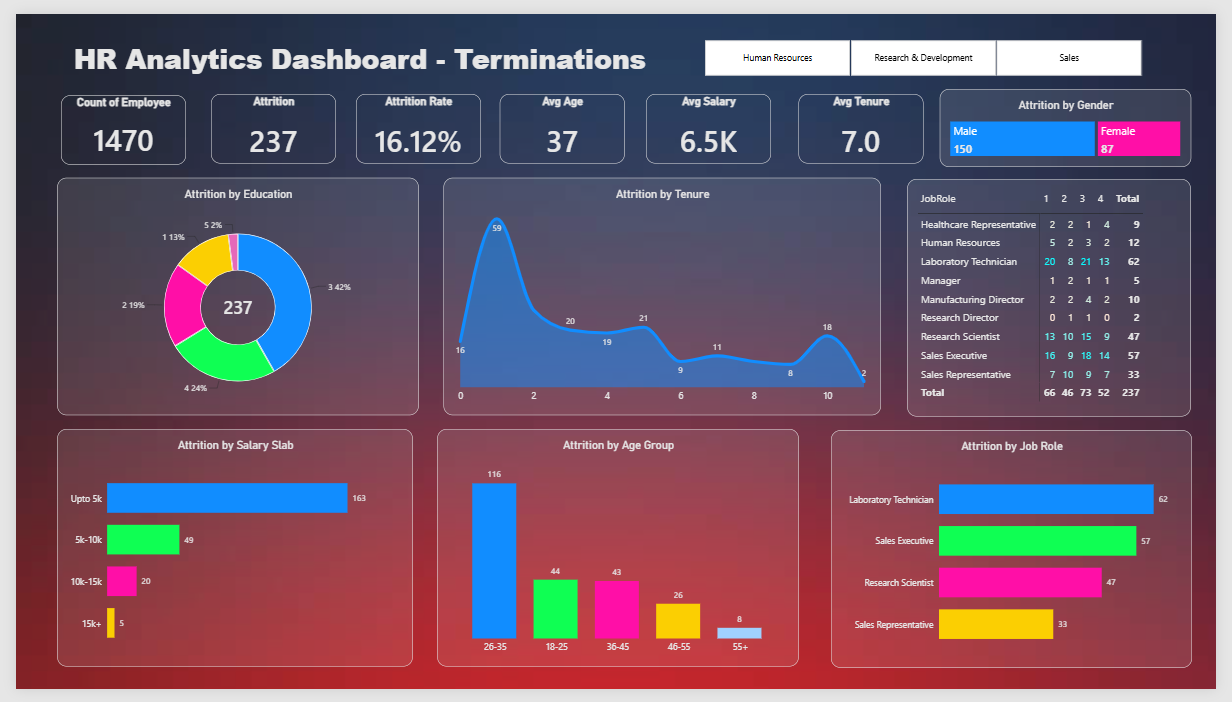

The dashboard page shown, as its layout file describes it:
{"tool":"powerbi","page":{"name":"Page 1","canvas":[1920,1080],"ordinal":0},"visuals":[{"type":"cardVisual","title":"Count of Employee","fields":{"Data":["Count(HR_Analytics.EmpID)"]},"box":[72.6,129.8,200,111],"z":0},{"type":"cardVisual","title":"Attrition","fields":{"Data":["Sum(HR_Analytics.AttritionCount)"]},"box":[311.1,128.9,200,111],"z":1000},{"type":"cardVisual","title":"Attrition Rate","fields":{"Data":["HR_Analytics.AttritionRate"]},"box":[544.4,128.9,200,111],"z":2000},{"type":"cardVisual","title":"Avg Age","fields":{"Data":["Avg(HR_Analytics.Age)"]},"box":[773.3,128.9,200,111],"z":3000},{"type":"cardVisual","title":"Avg Salary","fields":{"Data":["Avg(HR_Analytics.MonthlyIncome)"]},"box":[1008.9,128.9,200,111],"z":4000},{"type":"cardVisual","title":"Avg Tenure","fields":{"Data":["Avg(HR_Analytics.YearsAtCompany)"]},"box":[1251.1,128.9,200,111],"z":5000},{"type":"donutChart","title":"Attrition by Education","fields":{"Category":["HR_Analytics.Education"],"Y":["Sum(HR_Analytics.AttritionCount)"]},"box":[66,261.9,578.3,380],"z":6000},{"type":"columnChart","title":"Attrition by Age Group","fields":{"Category":["HR_Analytics.AgeGroup"],"Y":["Sum(HR_Analytics.AttritionCount)"]},"box":[673.3,664.4,578.3,380],"z":7000},{"type":"pivotTable","fields":{"Columns":["HR_Analytics.JobSatisfaction"],"Rows":["HR_Analytics.JobRole"],"Values":["Sum(HR_Analytics.AttritionCount)"]},"box":[1426.7,264.4,453.3,380],"z":8000},{"type":"barChart","title":"Attrition by Salary Slab","fields":{"Category":["HR_Analytics.SalarySlab"],"Y":["Sum(HR_Analytics.AttritionCount)"]},"box":[66.7,664.4,568.9,380],"z":9000},{"type":"barChart","title":"Attrition by Job Role","fields":{"Category":["HR_Analytics.JobRole"],"Y":["Sum(HR_Analytics.AttritionCount)"]},"box":[1304.4,666.7,577.8,380],"z":10000},{"type":"areaChart","title":"Attrition by Tenure","fields":{"Category":["HR_Analytics.YearsAtCompany"],"Y":["Sum(HR_Analytics.AttritionCount)"]},"box":[684.4,262.6,700,380],"z":11000},{"type":"treemap","title":"Attrition by Gender","fields":{"Group":["HR_Analytics.Gender"],"Values":["Sum(HR_Analytics.AttritionCount)"]},"box":[1477.8,120,402.2,124.4],"z":12000},{"type":"slicer","fields":{"Values":["HR_Analytics.Department"]},"box":[1082.2,40,737.8,60],"z":13000},{"type":"textbox","box":[66,40,968,80],"z":14000}]}

Visuals, with their boxes in screenshot pixels (x1, y1, x2, y2), scaled from the page's 1920x1080 canvas onto the 1232x702 screenshot:
"Count of Employee" cardVisual: box(47, 84, 175, 157)
"Attrition" cardVisual: box(200, 84, 328, 156)
"Attrition Rate" cardVisual: box(349, 84, 478, 156)
"Avg Age" cardVisual: box(496, 84, 625, 156)
"Avg Salary" cardVisual: box(647, 84, 776, 156)
"Avg Tenure" cardVisual: box(803, 84, 931, 156)
"Attrition by Education" donutChart: box(42, 170, 413, 417)
"Attrition by Age Group" columnChart: box(432, 432, 803, 679)
pivotTable - HR_Analytics.JobSatisfaction x HR_Analytics.JobRole: box(915, 172, 1206, 419)
"Attrition by Salary Slab" barChart: box(43, 432, 408, 679)
"Attrition by Job Role" barChart: box(837, 433, 1208, 680)
"Attrition by Tenure" areaChart: box(439, 171, 888, 418)
"Attrition by Gender" treemap: box(948, 78, 1206, 159)
slicer - HR_Analytics.Department: box(694, 26, 1168, 65)
textbox: box(42, 26, 663, 78)
